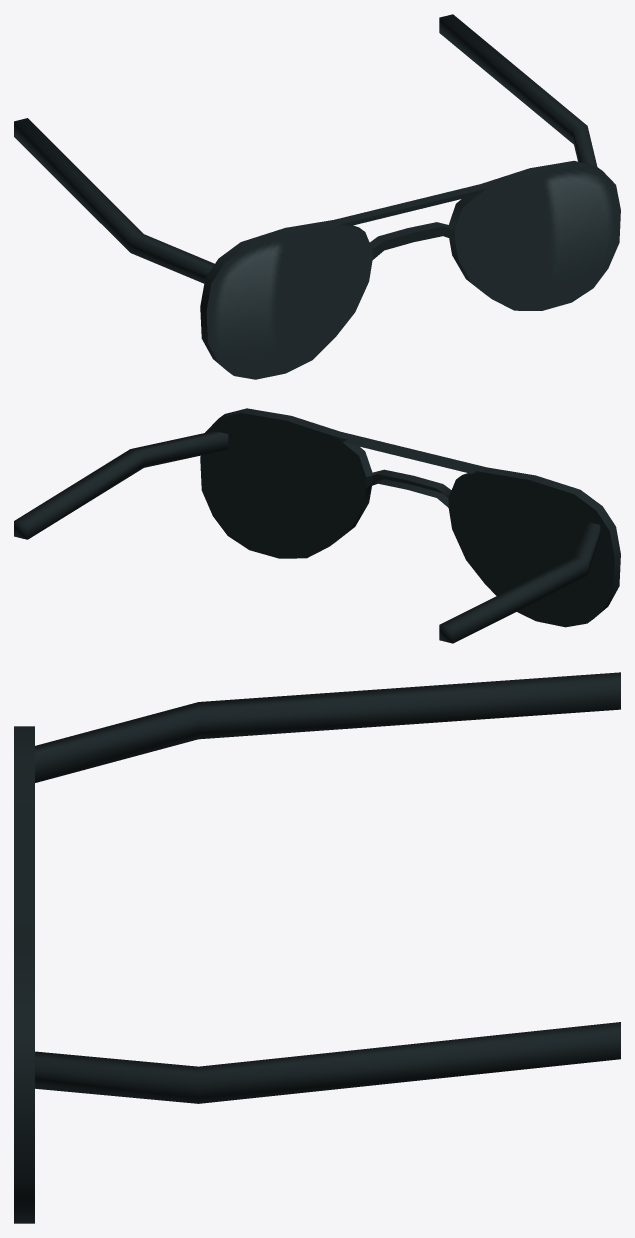
File: top_acc_11.FBX
3 renders of one model, top to bottom at view 1: azimuth 30°, elevation 25°; view 2: azimuth 150°, elevation 25°; view 3: azimuth 270°, elevation 25°, orthographic. The views are drawn at different scales.
Parts seen in each view (by area): view 1: top_acc_11; view 2: top_acc_11; view 3: top_acc_11.
Boxes of the visible parts, left/top/right/bottom form: top_acc_11: left=14, top=14, right=620, bottom=379; top_acc_11: left=14, top=408, right=620, bottom=643; top_acc_11: left=14, top=672, right=620, bottom=1223.
Bounding box in the file's own units: 27 × 8.05 × 18.43.
